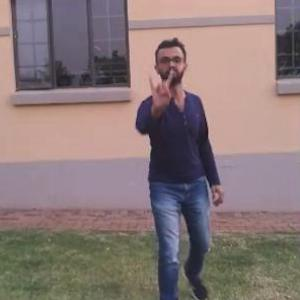takeoff-hand: (142, 62, 180, 116)
